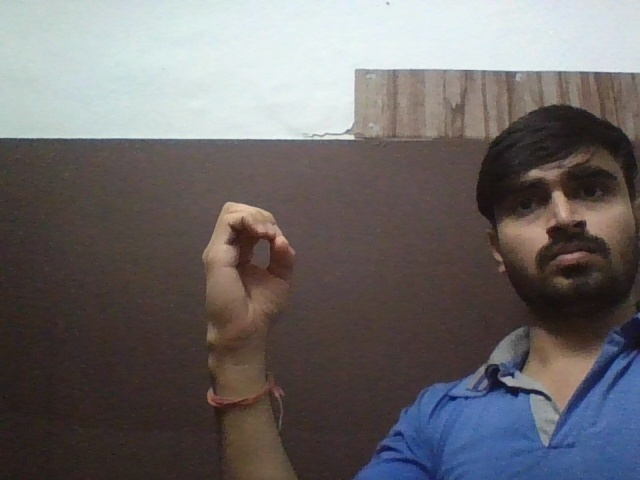O: (187, 197, 303, 357)
